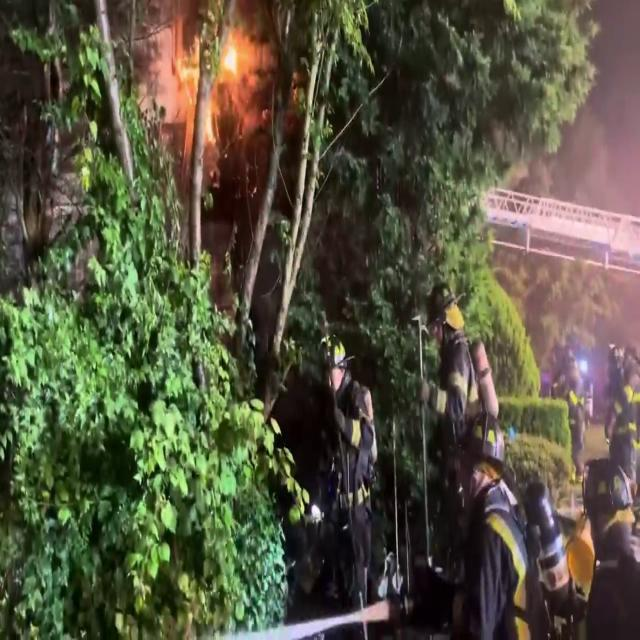Fire: (167, 2, 250, 146)
